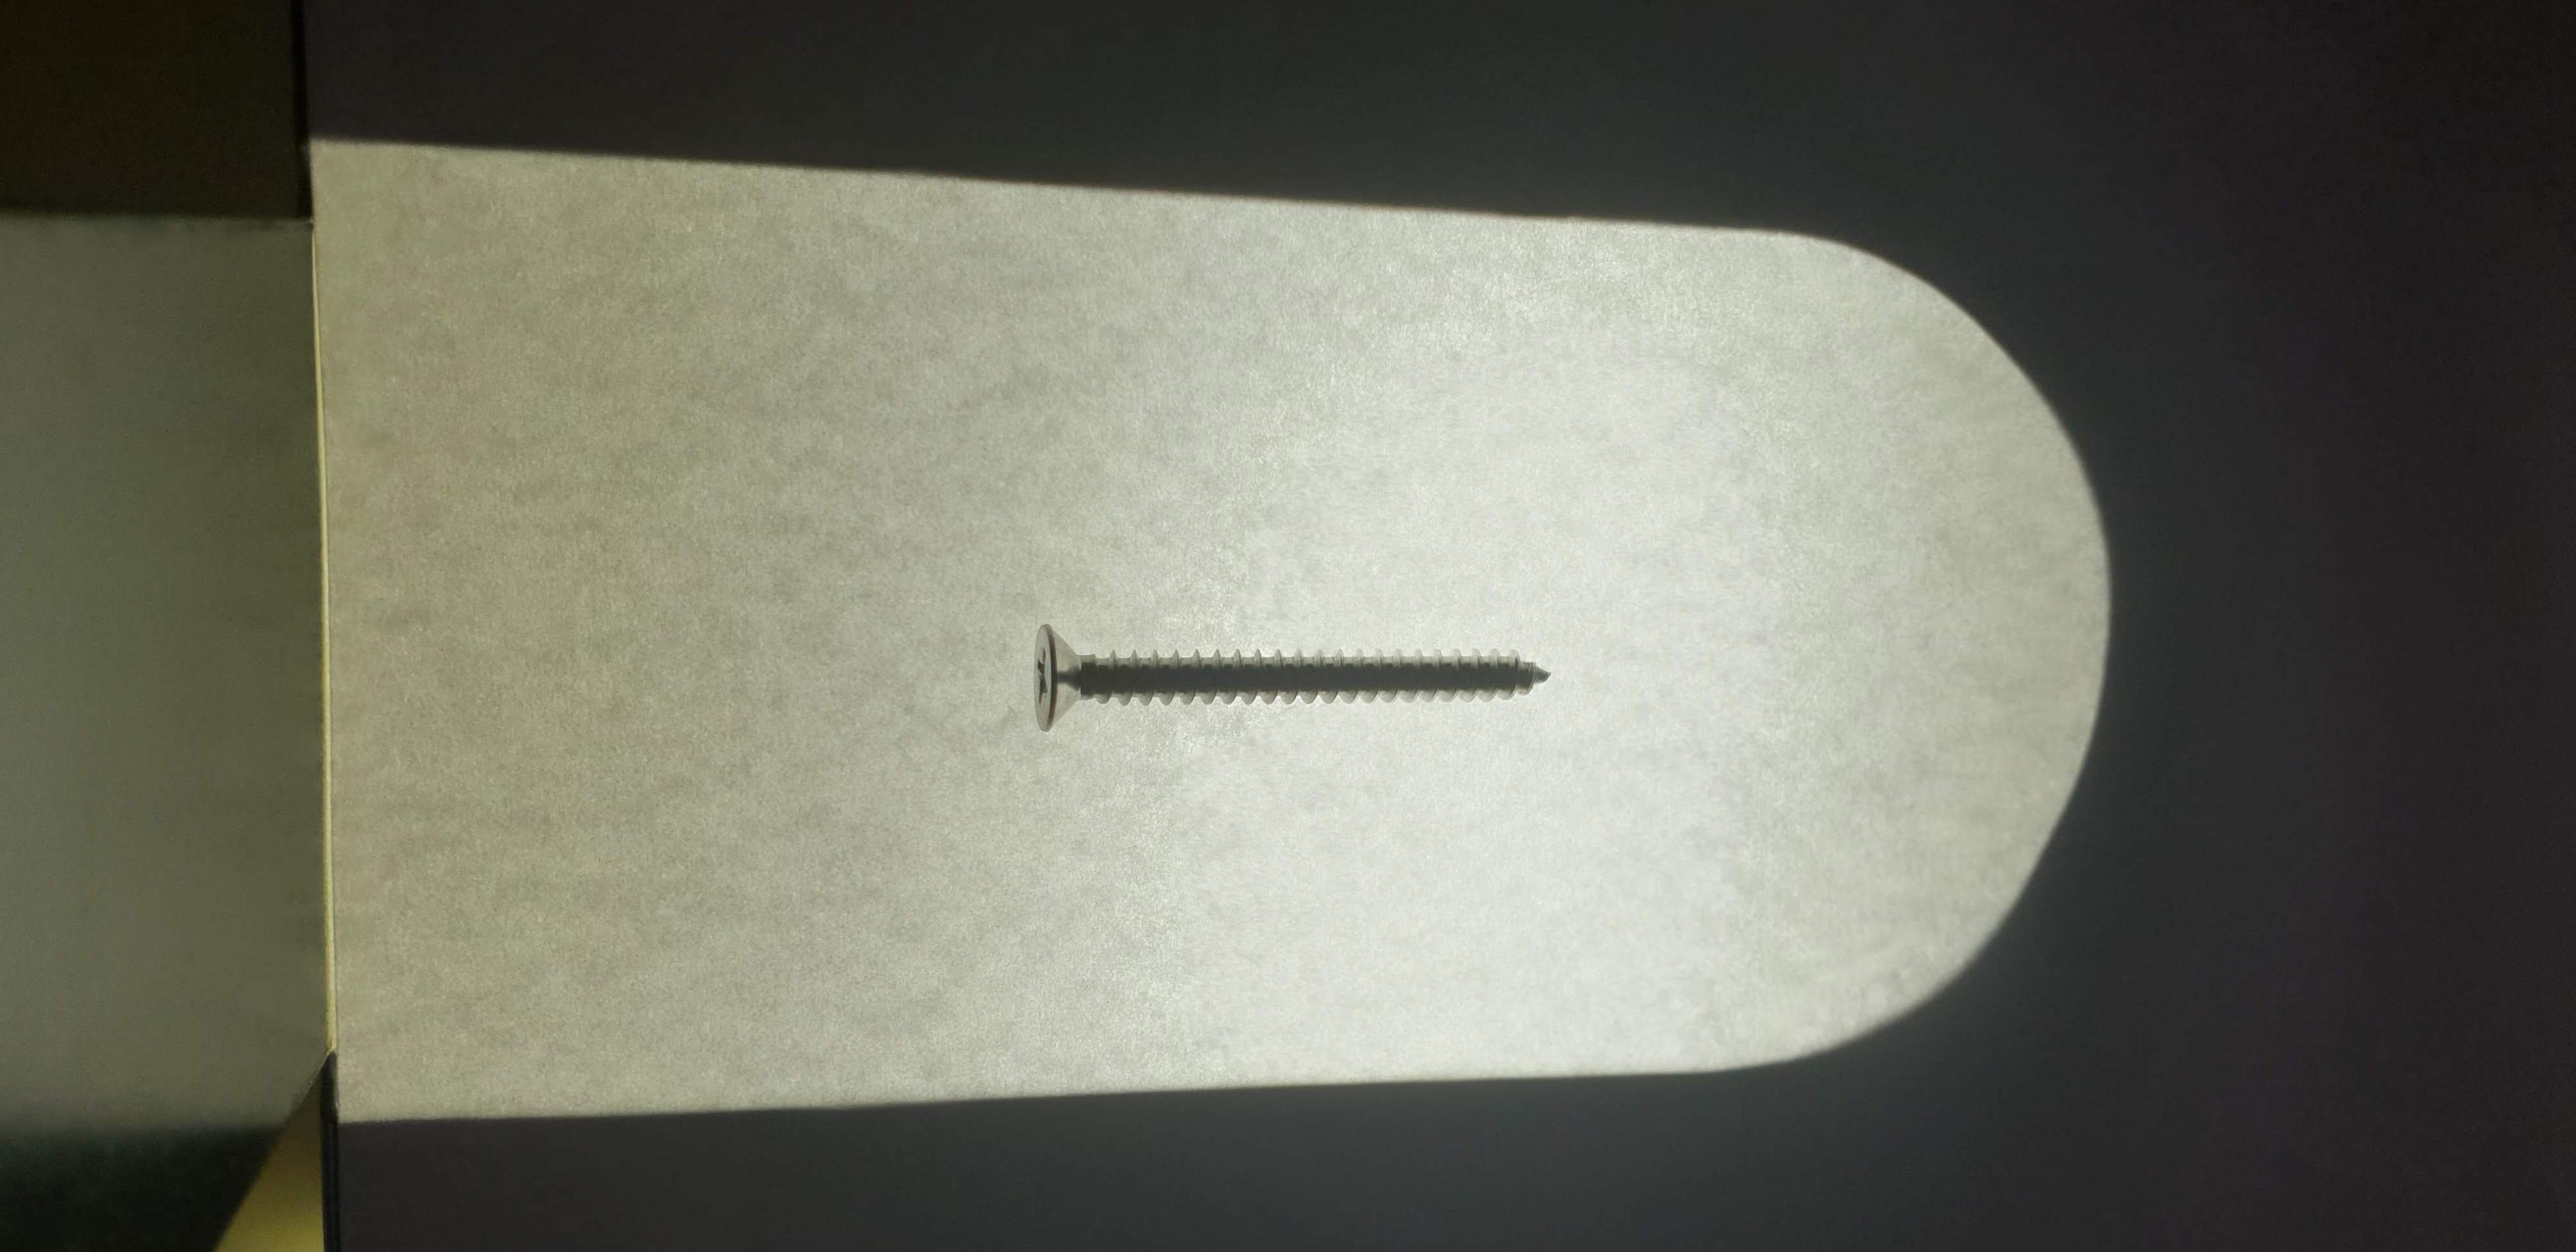S001: (984, 588, 1589, 749)
